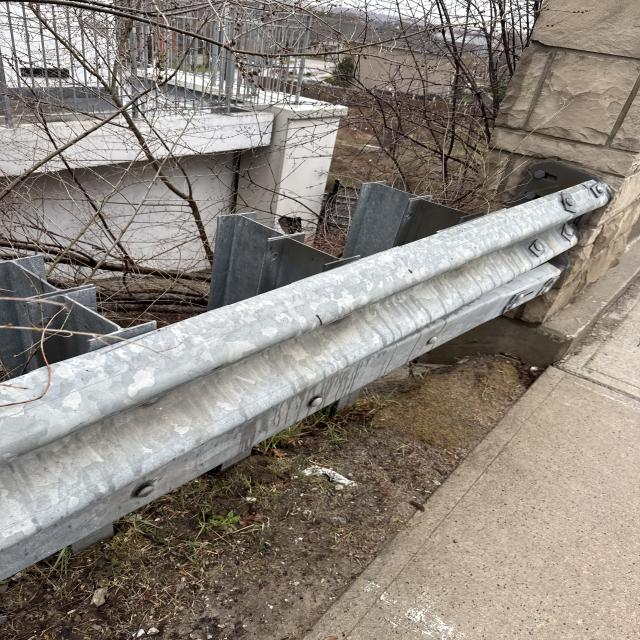Guard rail: (20, 205, 602, 558), (0, 260, 156, 379)
